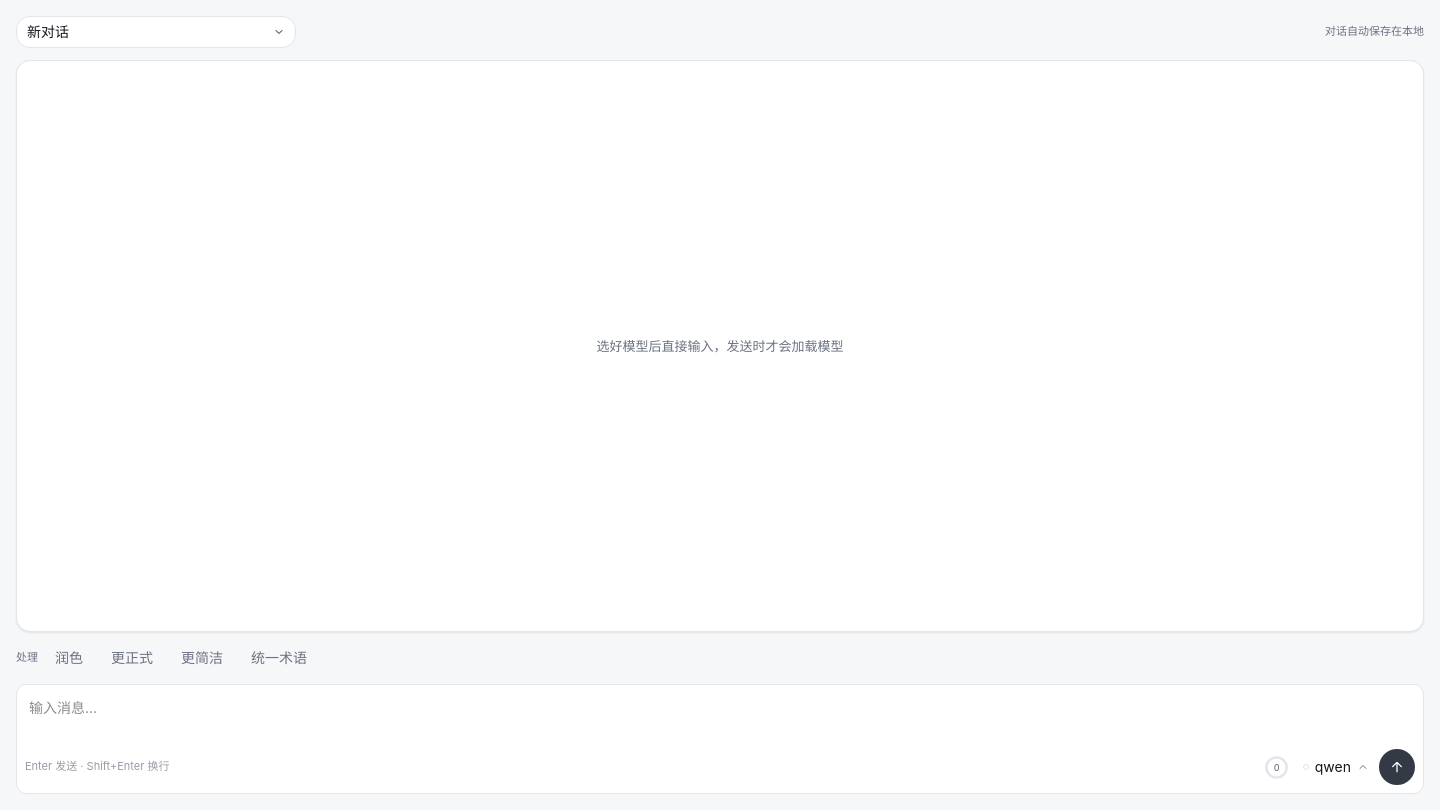
Test: Chat › 手动放开能力限制后，翻译模型也能进对话页
The image size is (1440, 810).
Expected: the button named "发送" is enabled, [1379,749,1415,785]
Click the button with aria-label "模型与思考强度" at (1336, 767), box [1297,752,1375,782]
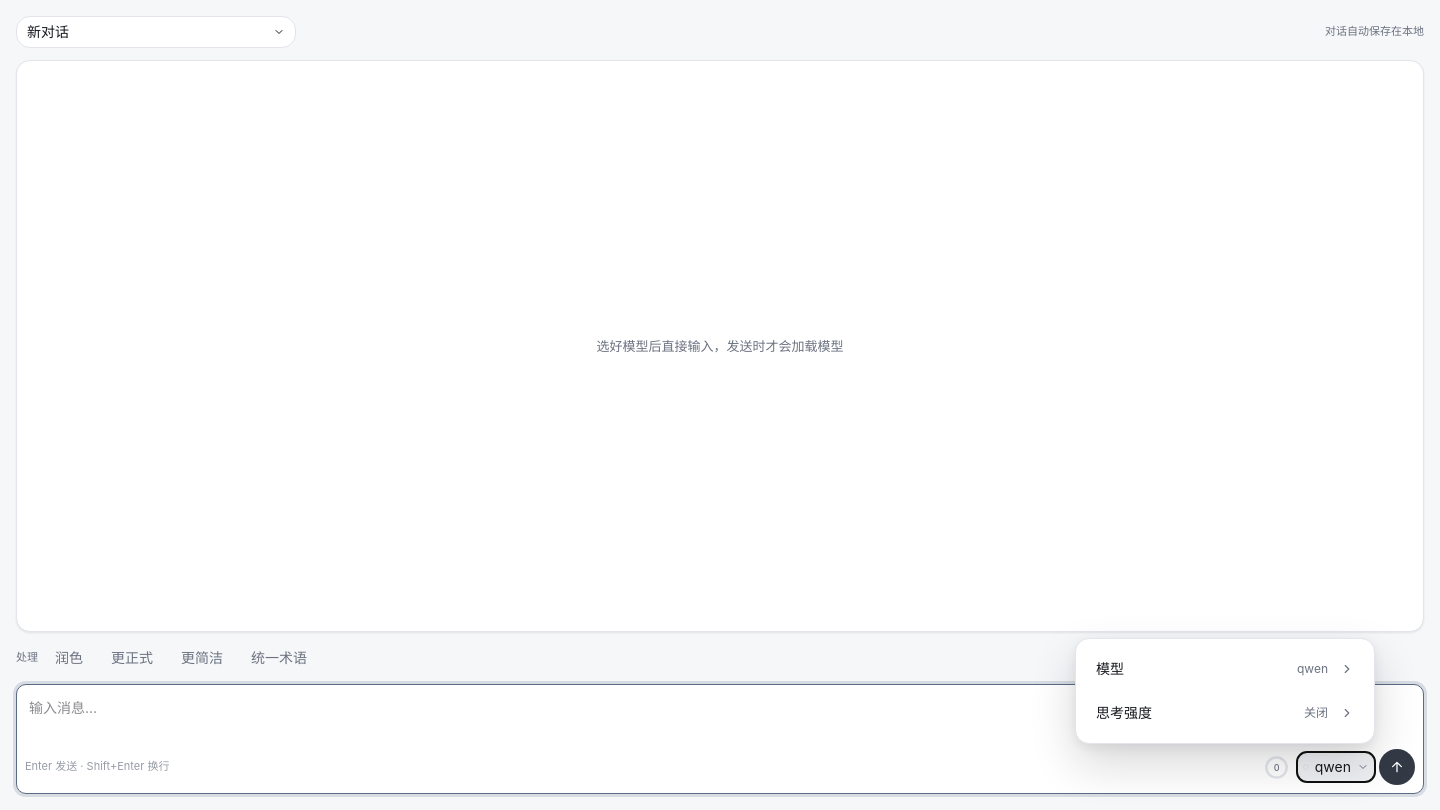
# 选择器是两级菜单：先点开，再进「模型」这一层才是模型列表
Click the text "模型" at (1110, 669), box [1096,658,1124,680]
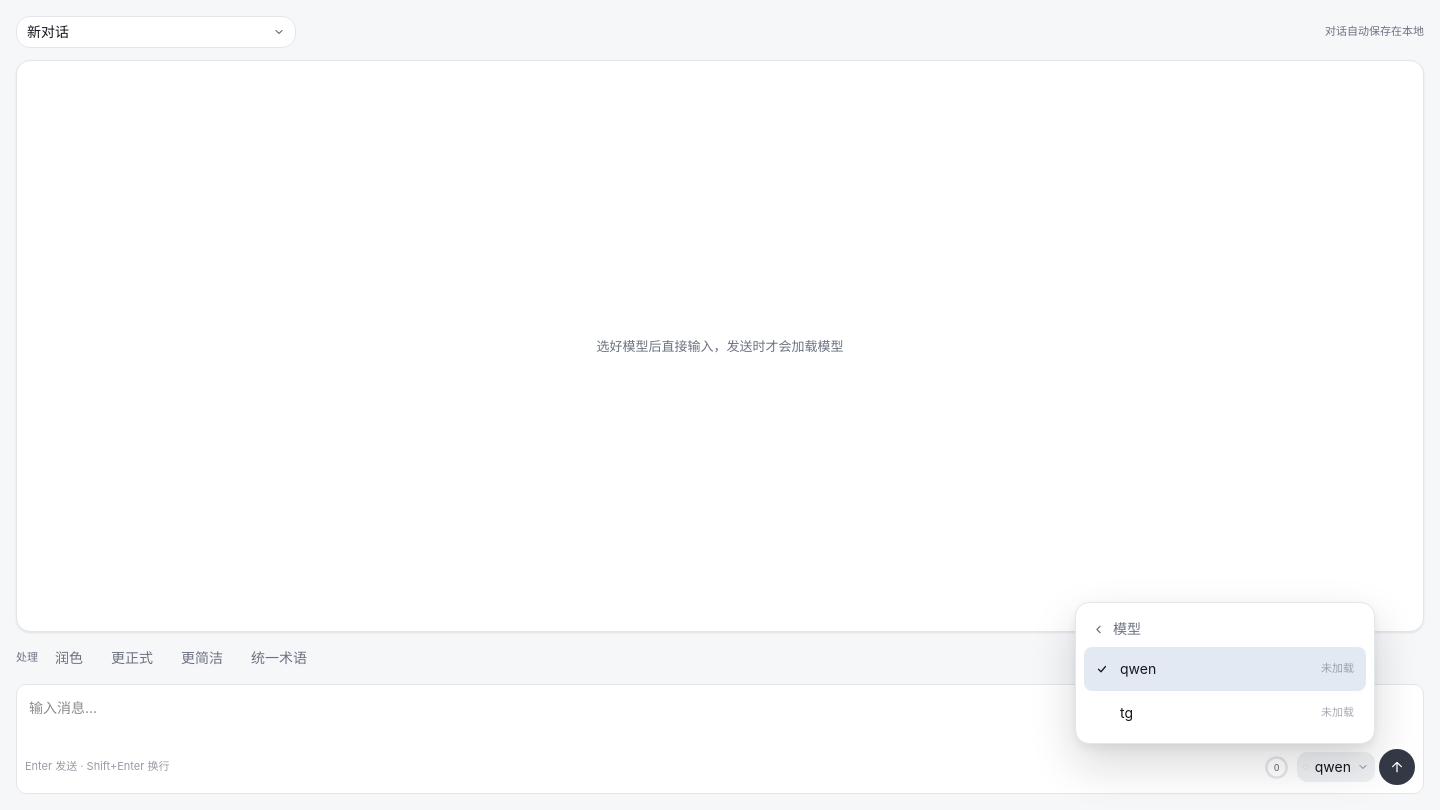
Now the text "tg" is shown, box [1120,704,1133,721]
